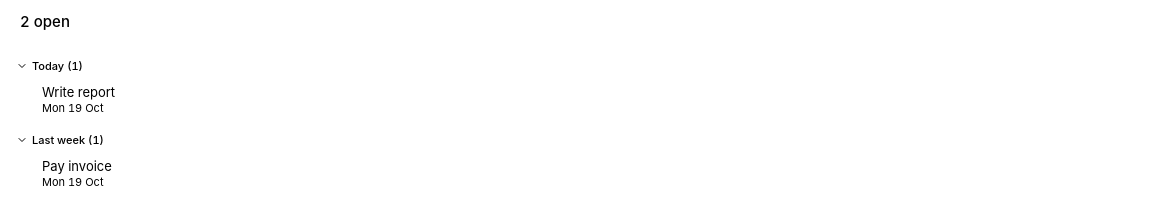
Test: Inspector › folding › hides the todos of a clicked group and keeps the other groups open
Click the button "Today (1)": [48, 66] box 8,47 -> 1144,75
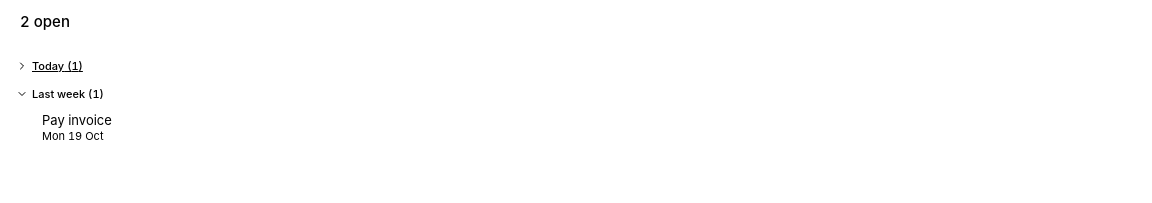
Check: the text "Pay invoice" is shown, box 42,111 -> 112,129
Check: the button "Today (1)" is collapsed, box 8,47 -> 1144,75
Check: the button "Write report" is gone
